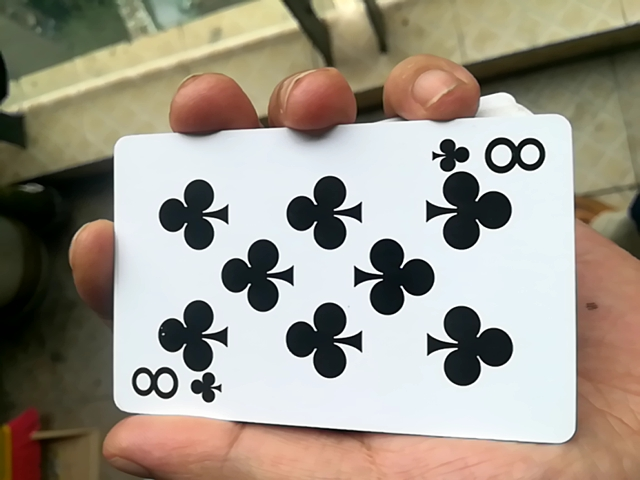mh 8: (106, 122, 566, 456)
